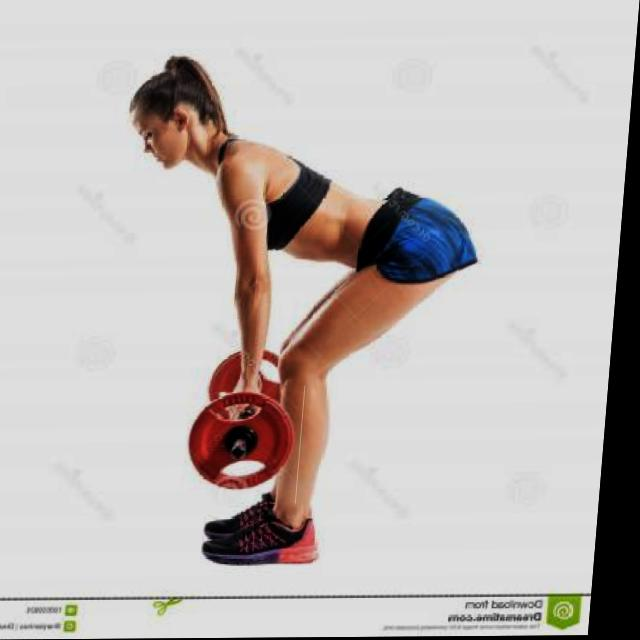barbell: (187, 387, 313, 505)
